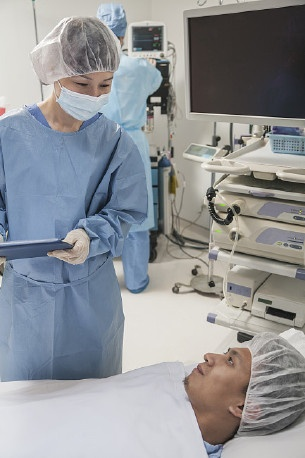Mask: (58, 67, 115, 124)
